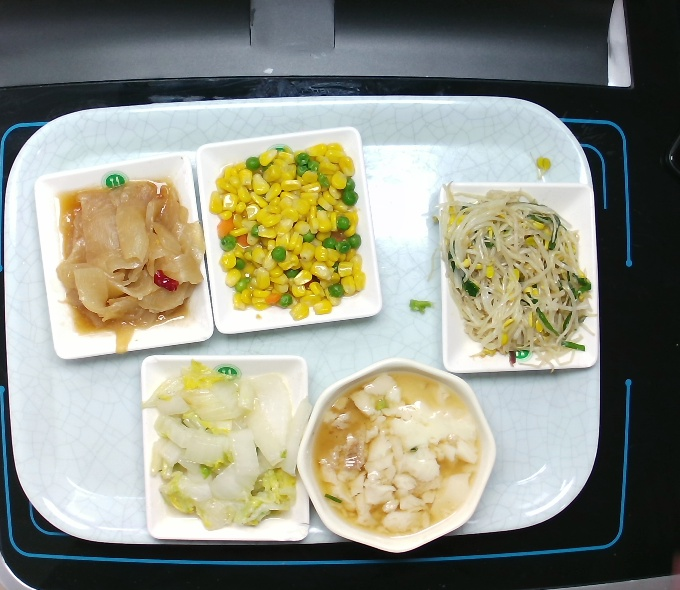wcq-DaBaiCai: (138, 354, 313, 539)
wcq-DongGua: (48, 172, 214, 358)
wcq-DouYa: (418, 177, 604, 378)
wcq-ShuiZhengDan: (305, 363, 489, 548)
wcq-TianMiTianDou: (204, 139, 370, 324)
